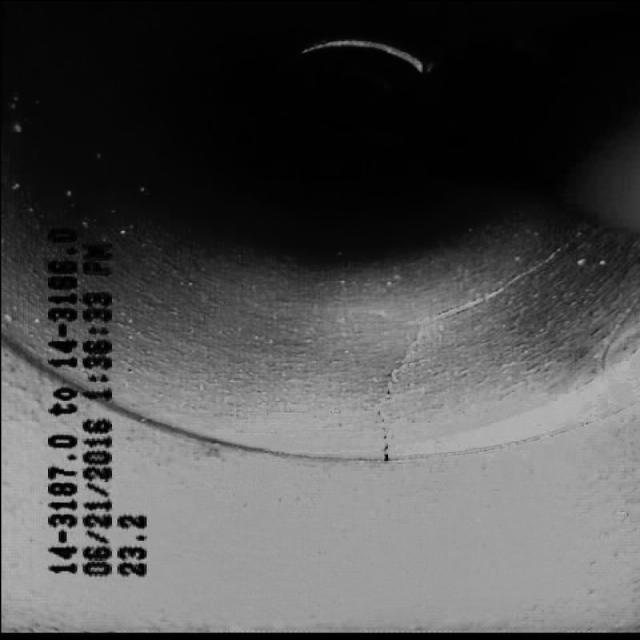Crack: (344, 266, 526, 446)
